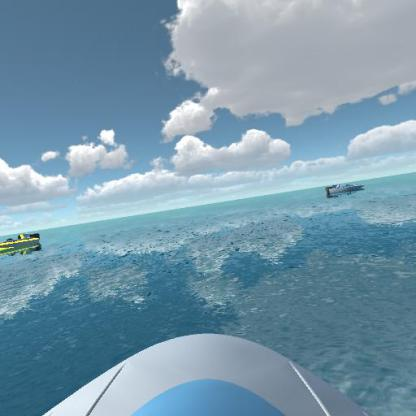usv1: (319, 175, 369, 201)
usv2: (0, 231, 42, 257)
